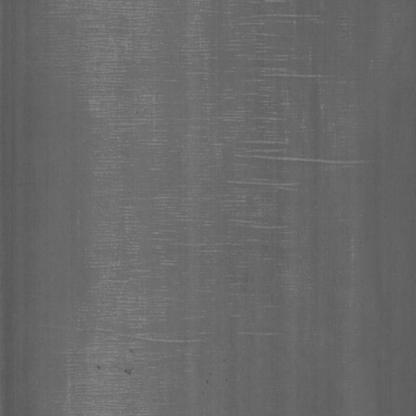waist_folding: (98, 21, 378, 320)
